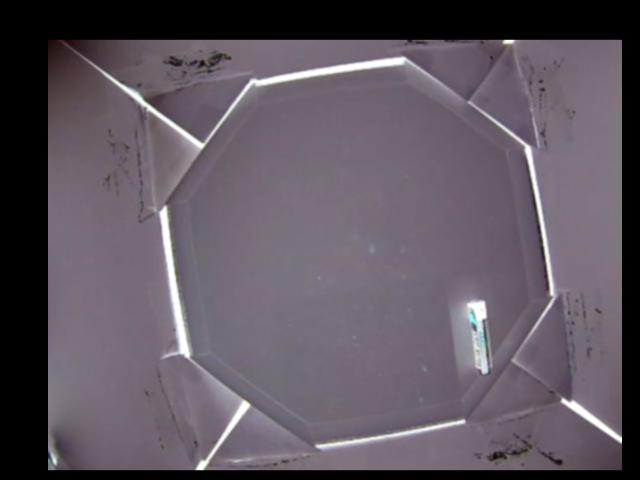Battery: (465, 299, 491, 376)
